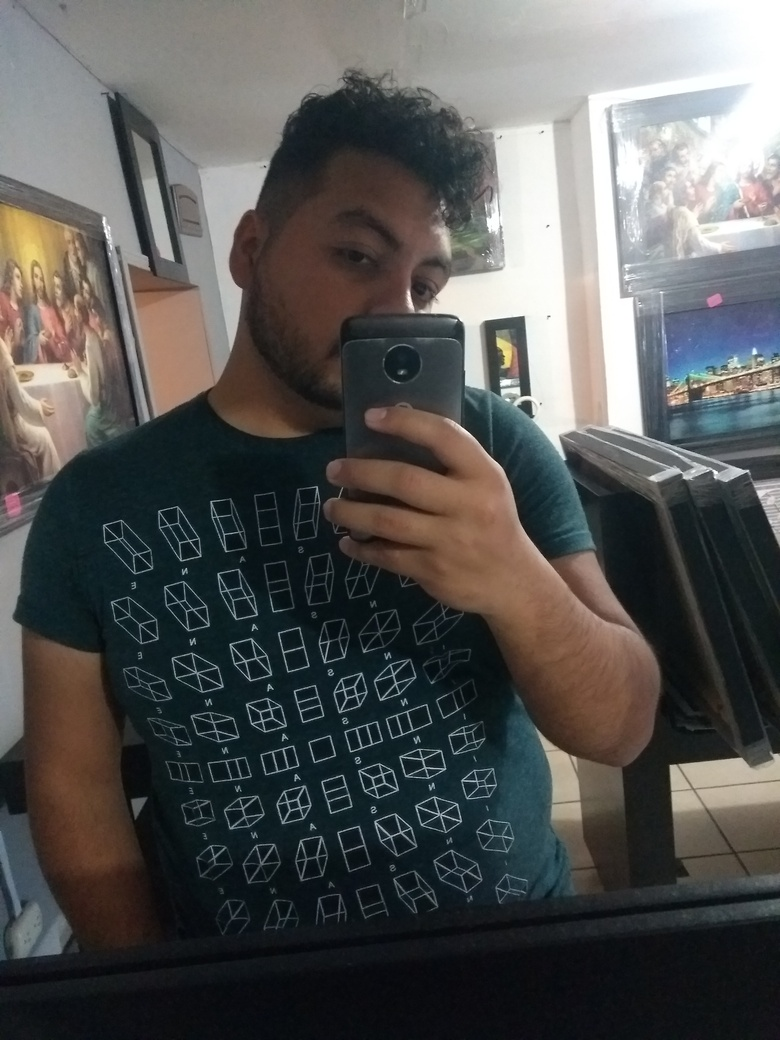Yoshi: (206, 74, 522, 465)
